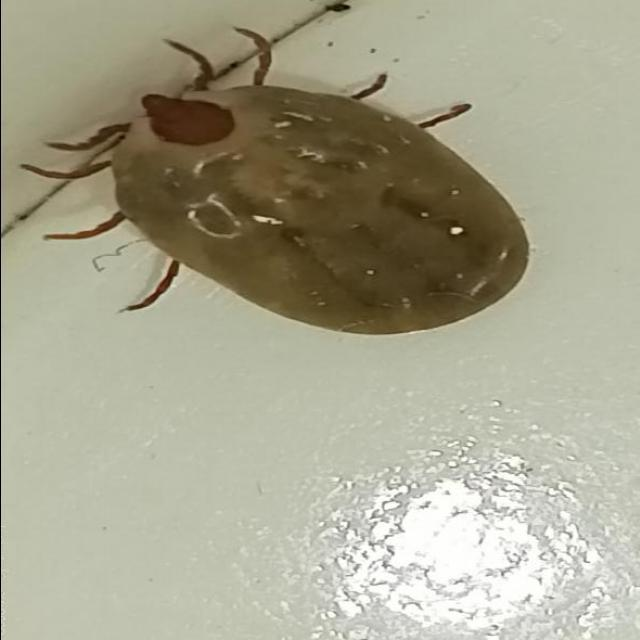Rhipicephalus Sanguineus-F-Fed: (17, 27, 529, 336)
